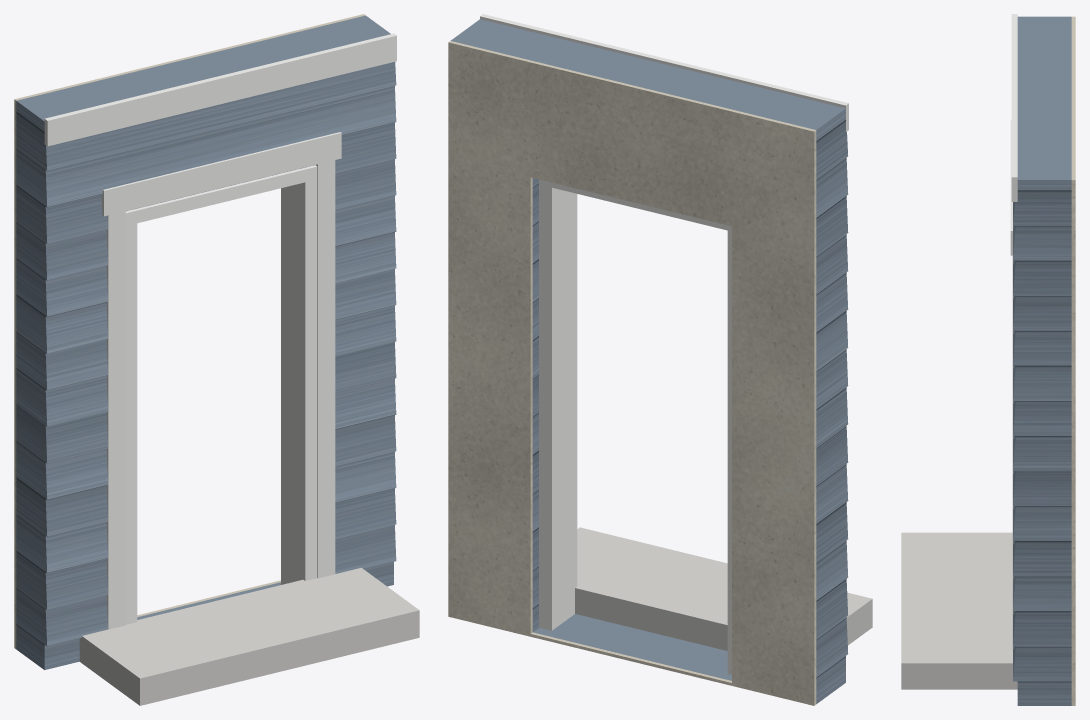
The model's file is wall_siding_door_back.glb.
The picture shows the model from 3 angles, left to right: view 1: azimuth 30°, elevation 25°; view 2: azimuth 150°, elevation 25°; view 3: azimuth 270°, elevation 25°; orthographic projection. The views are drawn at different scales.
Parts seen in each view (by area): view 1: wall_siding_door_back_siding, wall_siding_door_back_trim, wall_siding_door_back_concrete, wall_siding_door_back_frame, wall_siding_door_back_plaster; view 2: wall_siding_door_back_plaster, wall_siding_door_back_siding, wall_siding_door_back_frame, wall_siding_door_back_concrete, wall_siding_door_back_trim; view 3: wall_siding_door_back_siding, wall_siding_door_back_concrete, wall_siding_door_back_plaster, wall_siding_door_back_trim.
Boxes of the visible parts, x1,y1,x2,y2 form: wall_siding_door_back_siding: (16,15,396,669); wall_siding_door_back_trim: (44,33,396,629); wall_siding_door_back_concrete: (79,567,419,705); wall_siding_door_back_frame: (125,165,317,624); wall_siding_door_back_plaster: (14,14,365,648); wall_siding_door_back_plaster: (448,41,816,705); wall_siding_door_back_siding: (450,19,848,703); wall_siding_door_back_frame: (539,179,731,674); wall_siding_door_back_concrete: (575,527,872,650); wall_siding_door_back_trim: (480,14,848,131); wall_siding_door_back_siding: (1013,16,1071,705); wall_siding_door_back_concrete: (901,532,1017,689); wall_siding_door_back_plaster: (1071,16,1075,705); wall_siding_door_back_trim: (1010,14,1017,650).
Bounding box in the file's own units: 2 × 3.02 × 0.9.
Materials: 5 (2 with a texture image).
